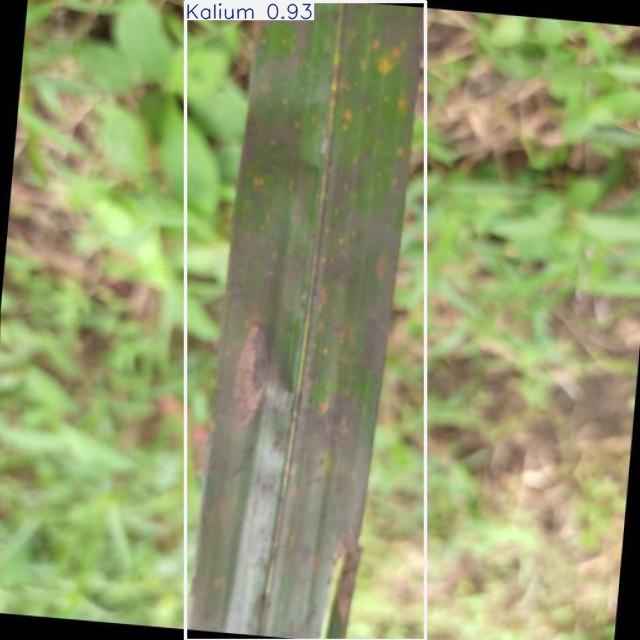Kalium: (185, 1, 425, 640)
